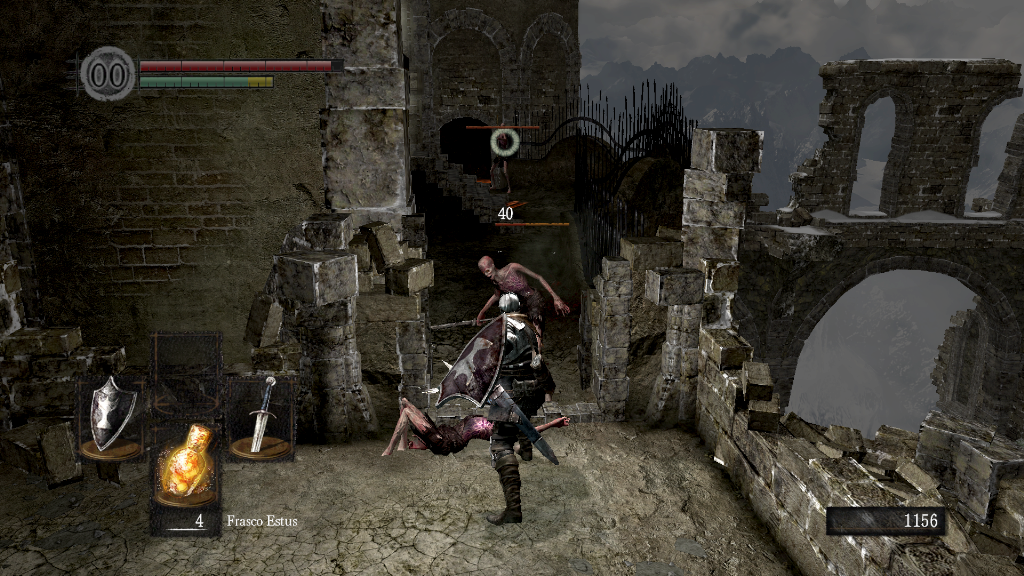health: (138, 58, 343, 71)
hollow: (433, 252, 572, 411), (485, 127, 521, 197)
humanity: (80, 45, 136, 102)
player: (433, 292, 563, 524)
souls: (825, 506, 945, 536)
stamina: (138, 74, 274, 88)
